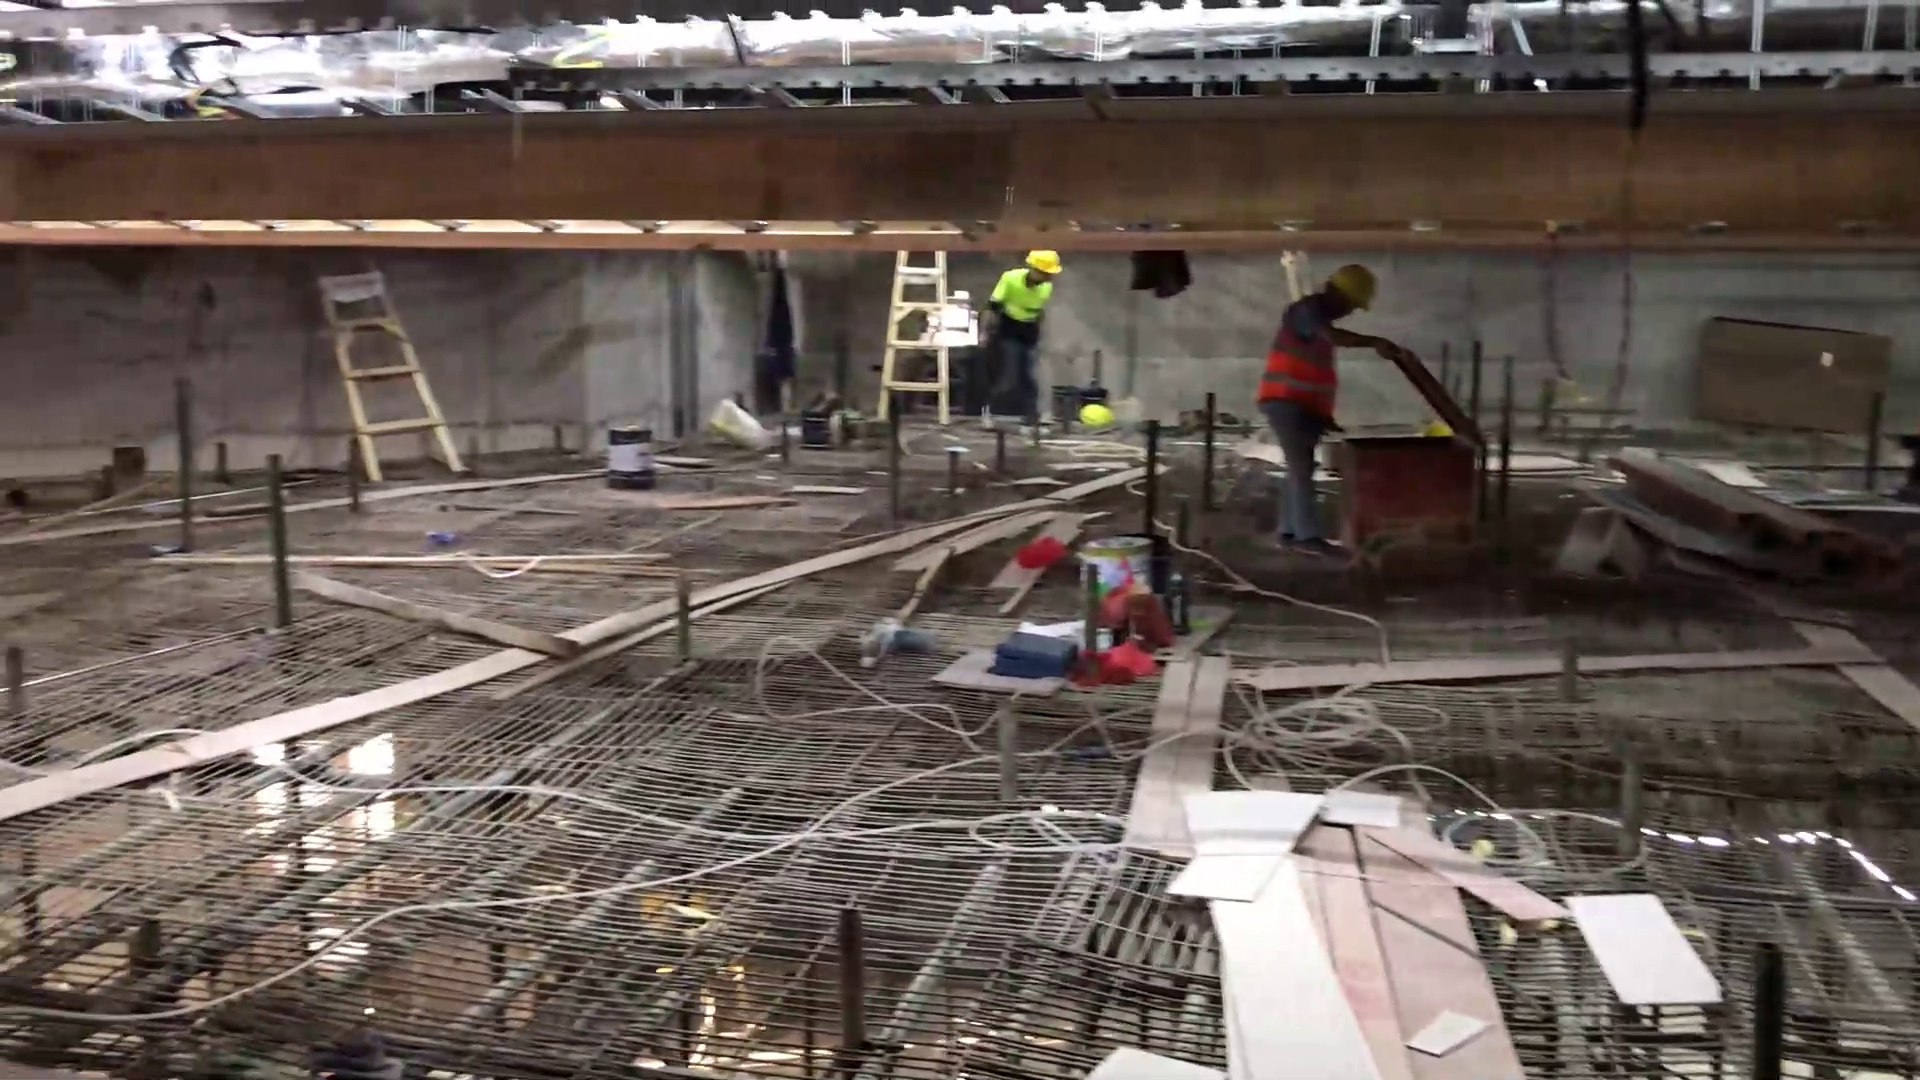helmet: (1331, 258, 1378, 309), (1070, 392, 1116, 428), (1024, 234, 1062, 274)
person: (1265, 258, 1401, 550), (981, 236, 1066, 430)
vest: (1268, 302, 1340, 429)
